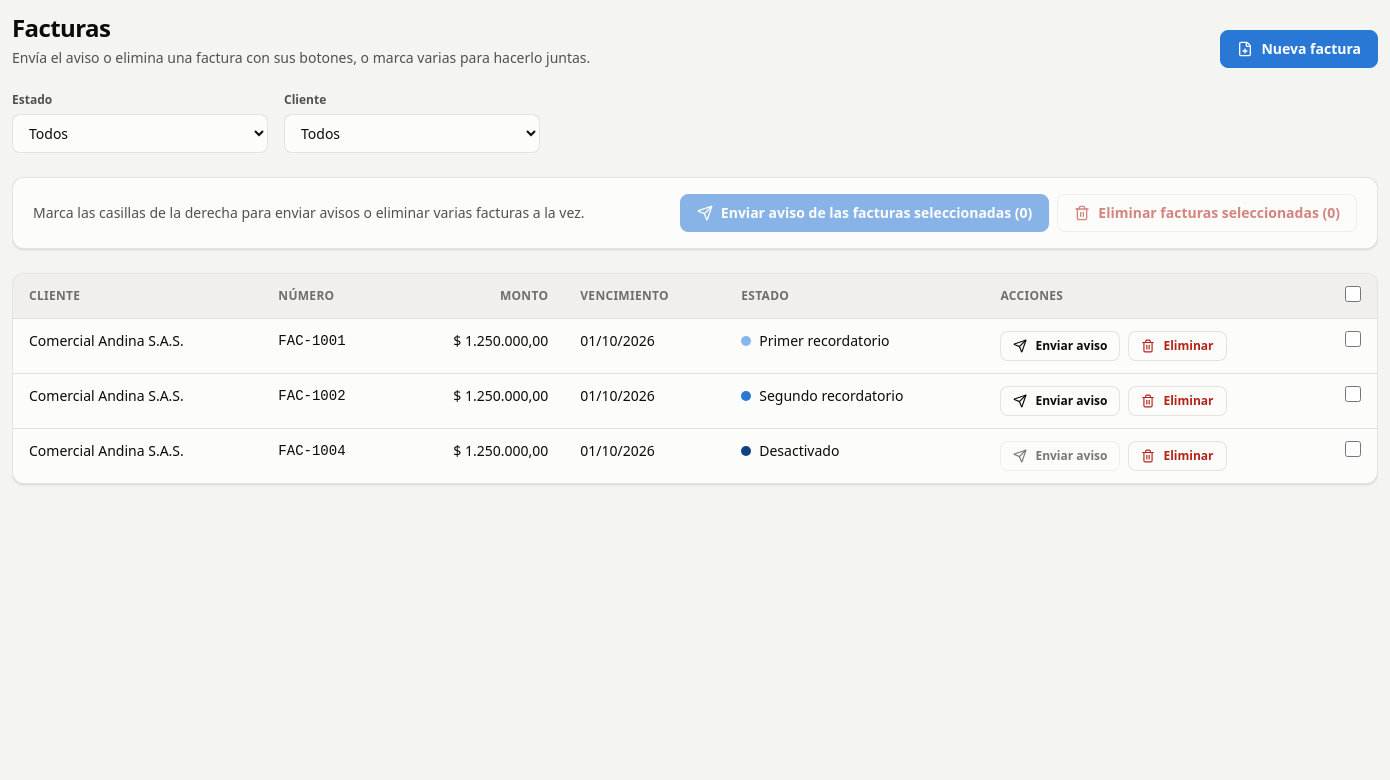
FacturasPage: selección de facturas › envía los avisos de la selección, muestra el resultado y limpia la selección
Click the checkbox named "Seleccionar FAC-1001" at (1353, 339), box [1345,331,1361,347]
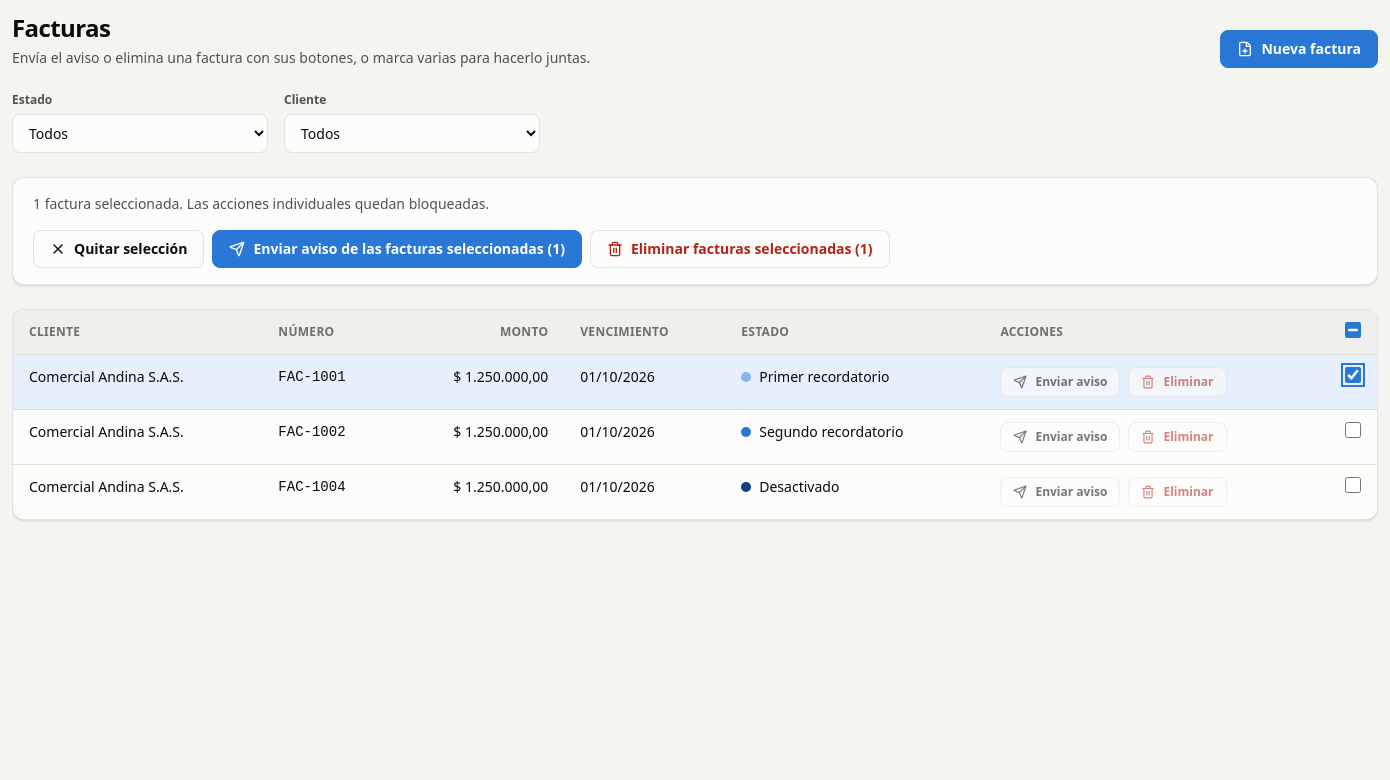
Click the checkbox named "Seleccionar FAC-1002" at (1353, 430), box [1345,422,1361,438]
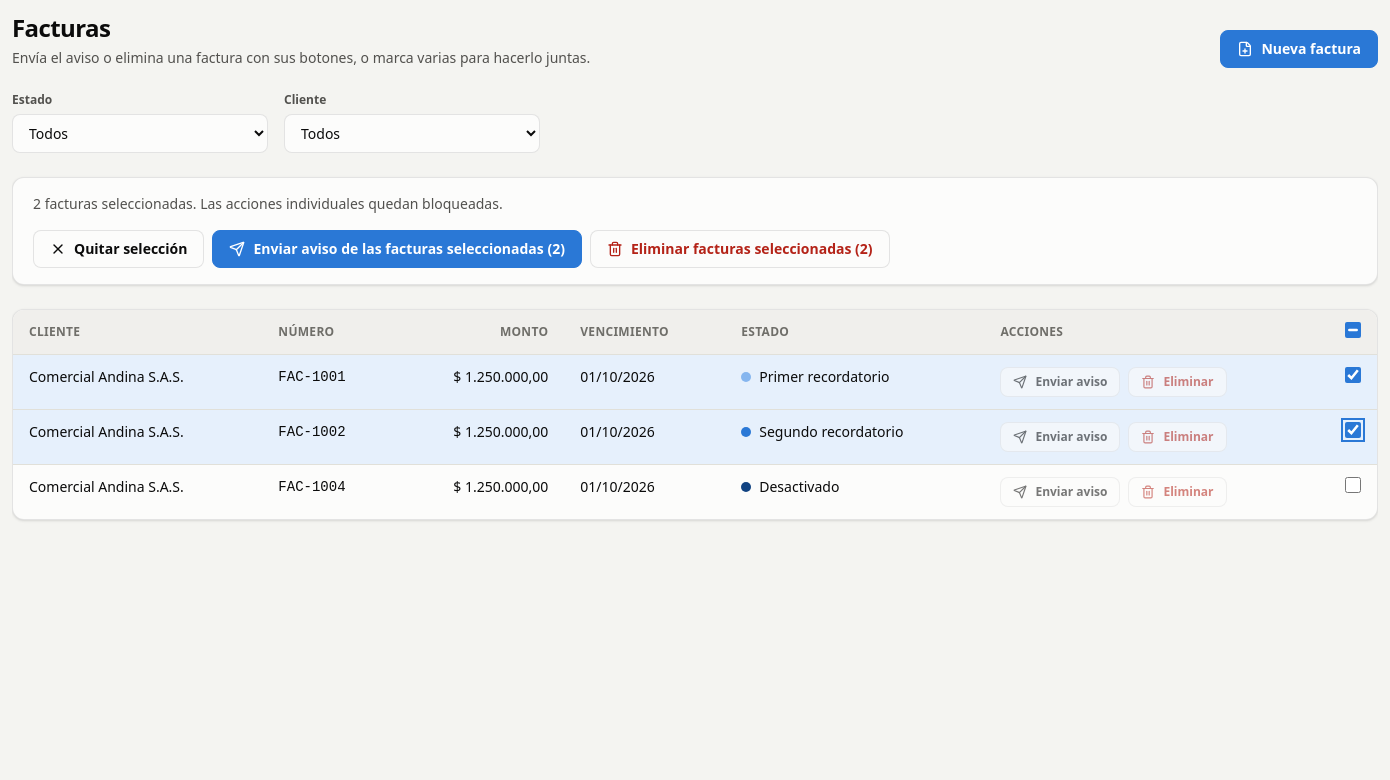
Click the button "Enviar aviso de las facturas seleccionadas (2)" at (397, 249), box [212,230,582,268]
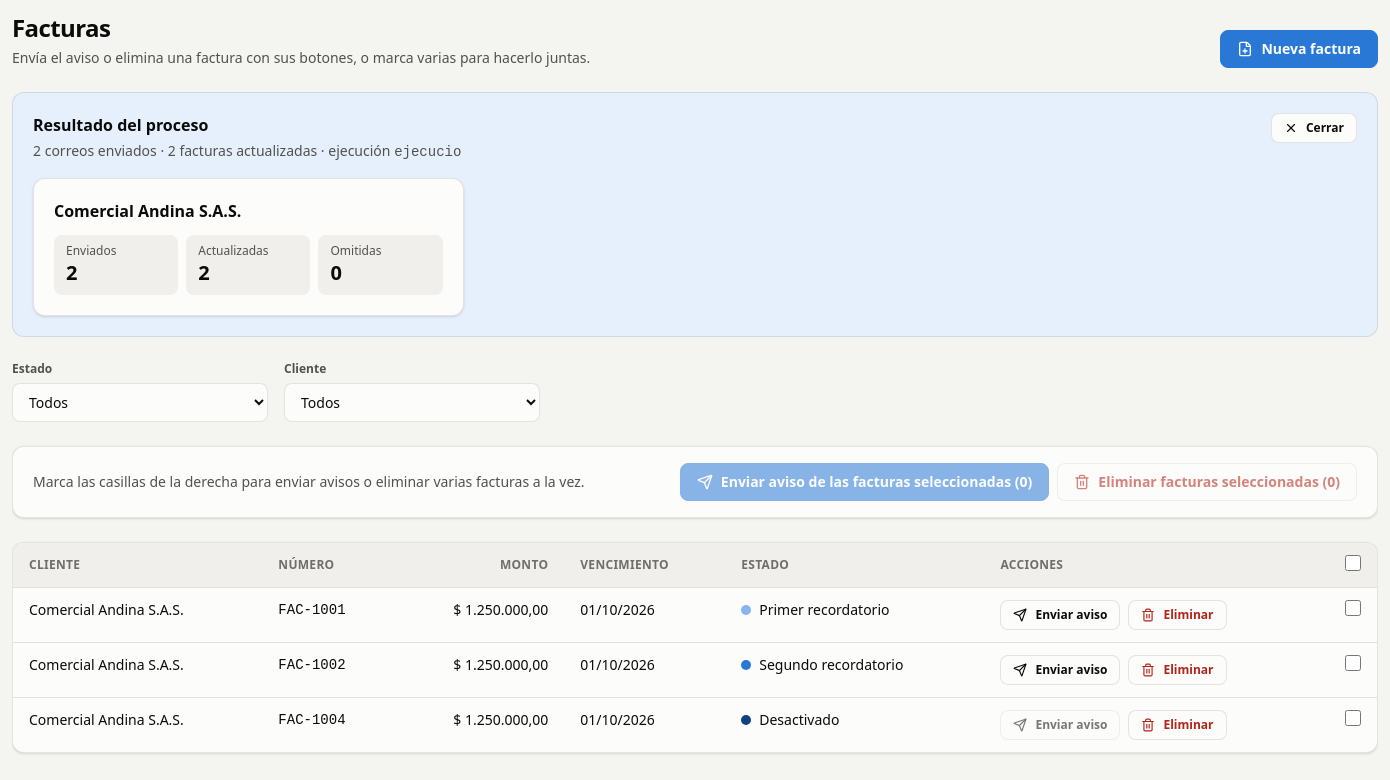
Check: the text "2 correos enviados" is shown, box [33,141,461,162]
Check: the button "Enviar aviso de las facturas seleccionadas (0)" is shown, box [680,463,1049,501]
Check: the button with aria-label "Enviar aviso de FAC-1001" is enabled, box [1000,600,1120,630]
